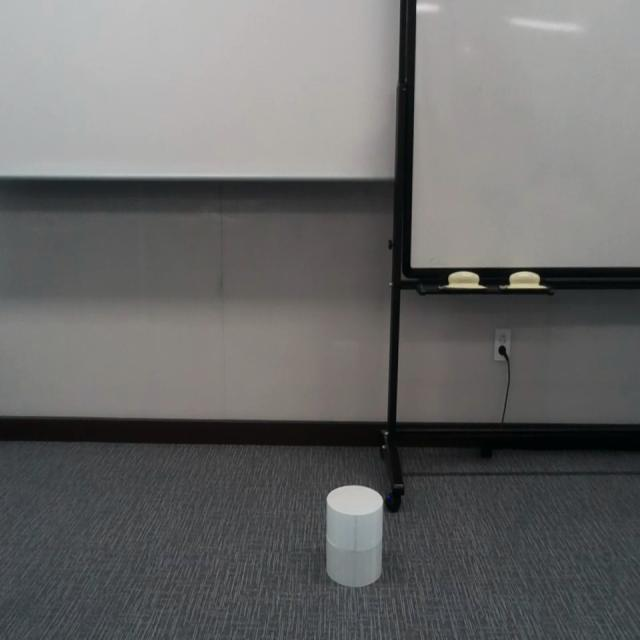cylinder: (326, 484, 384, 586)
